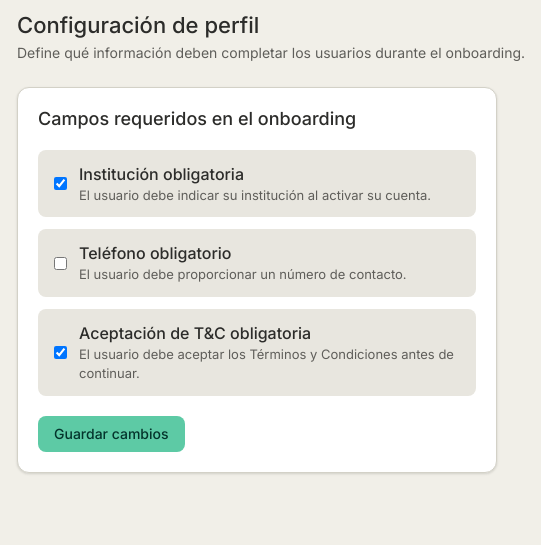
Test: SuperadminProfileConfigPage — guardado › muestra confirmación de éxito tras guardar
Check: the checkbox labelled "Institución" is shown, box [54, 177, 67, 190]
Click the button "Guardar cambios".
click(111, 434)  # box [38, 416, 184, 452]
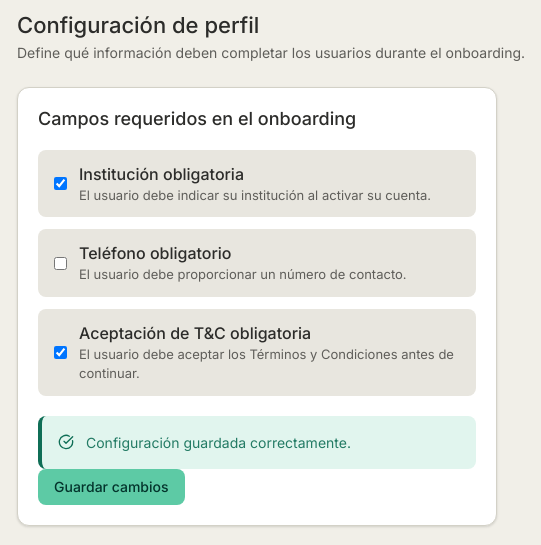
Check: the text "Configuración guardada correctamente." is shown, box [86, 434, 351, 451]
